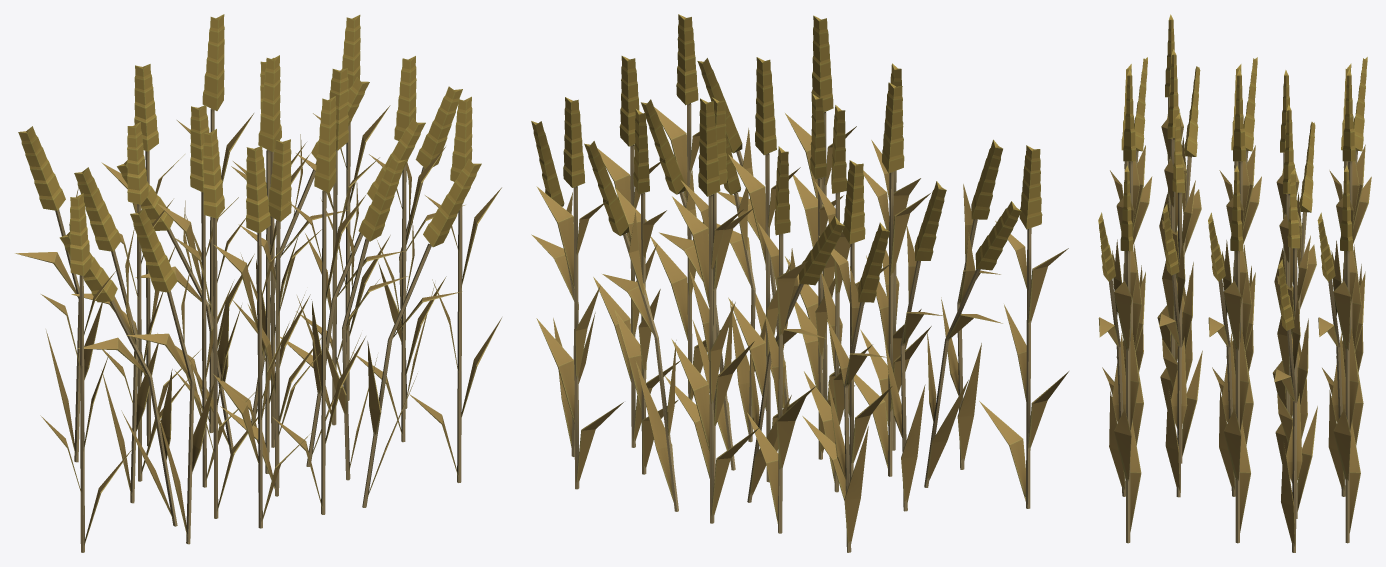
The model's file is wheat.glb.
The picture shows the model from 3 angles, left to right: view 1: azimuth 30°, elevation 25°; view 2: azimuth 150°, elevation 25°; view 3: azimuth 270°, elevation 25°; orthographic projection. The views are drawn at different scales.
Parts seen in each view (by area): view 1: node-0; view 2: node-0; view 3: node-0.
Part boxes in pixels (x1=…): node-0: x1=15, y1=14, x2=501, y2=552; node-0: x1=531, y1=14, x2=1068, y2=552; node-0: x1=1098, y1=14, x2=1371, y2=552.
Size of the model in its own units: 16.21 by 13.45 by 8.16.
Materials: 1 (1 with a texture image).
